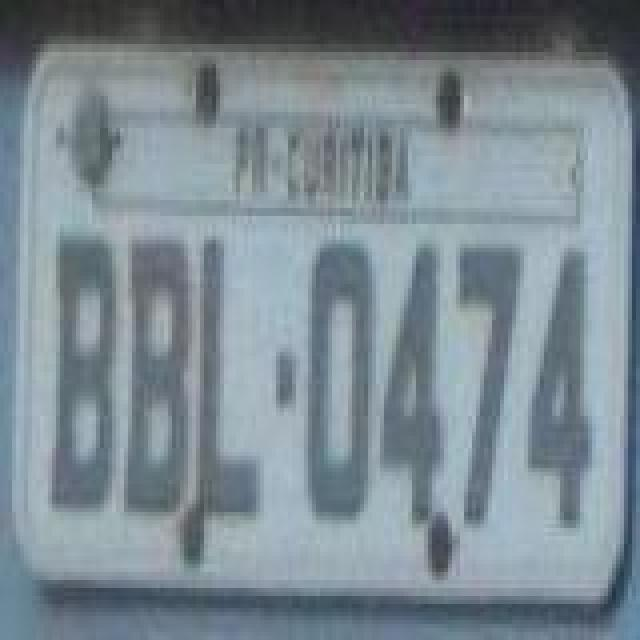4: (380, 242, 444, 526), (528, 250, 592, 534)
7: (454, 238, 522, 530)
B: (44, 230, 116, 522), (124, 234, 196, 518)
L: (196, 238, 260, 522)
O: (306, 238, 374, 530)
